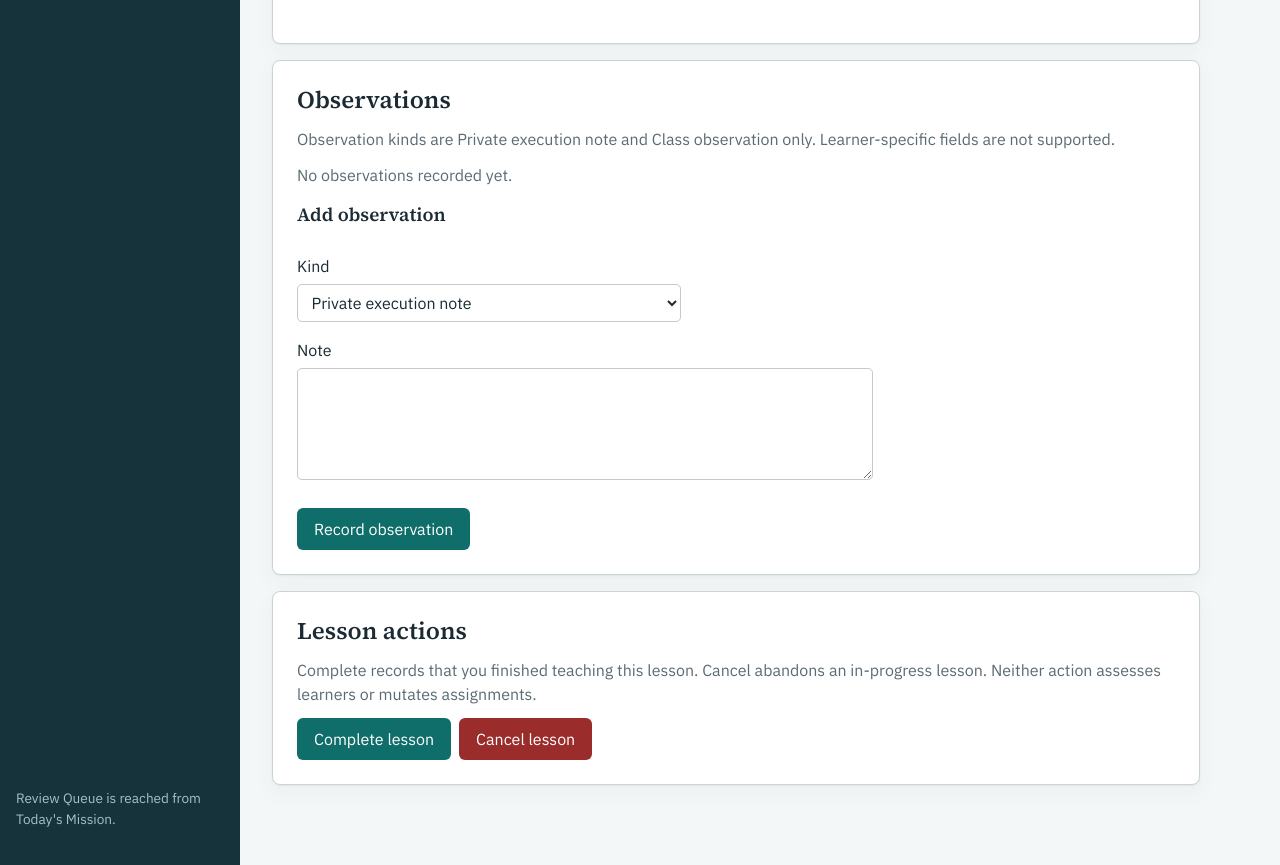
TOS-DEV07-I03 Execution detail › creates observation with Idempotency-Key
(page scrolled)
Type "First note" into the text box named "Observation note" at [585, 424], box [297,368,873,480]
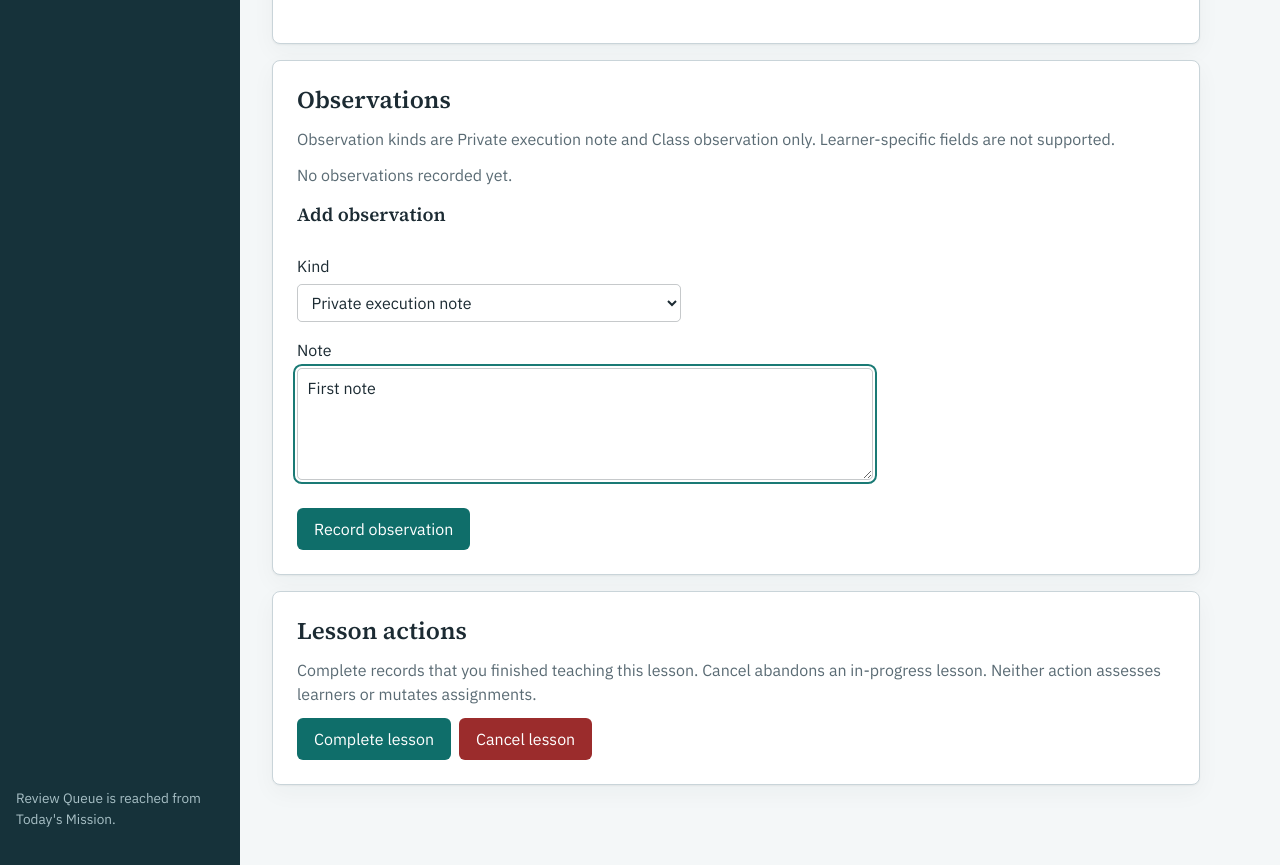
Click the button "Record observation" at [384, 529], box [297,508,470,550]
(page scrolled)
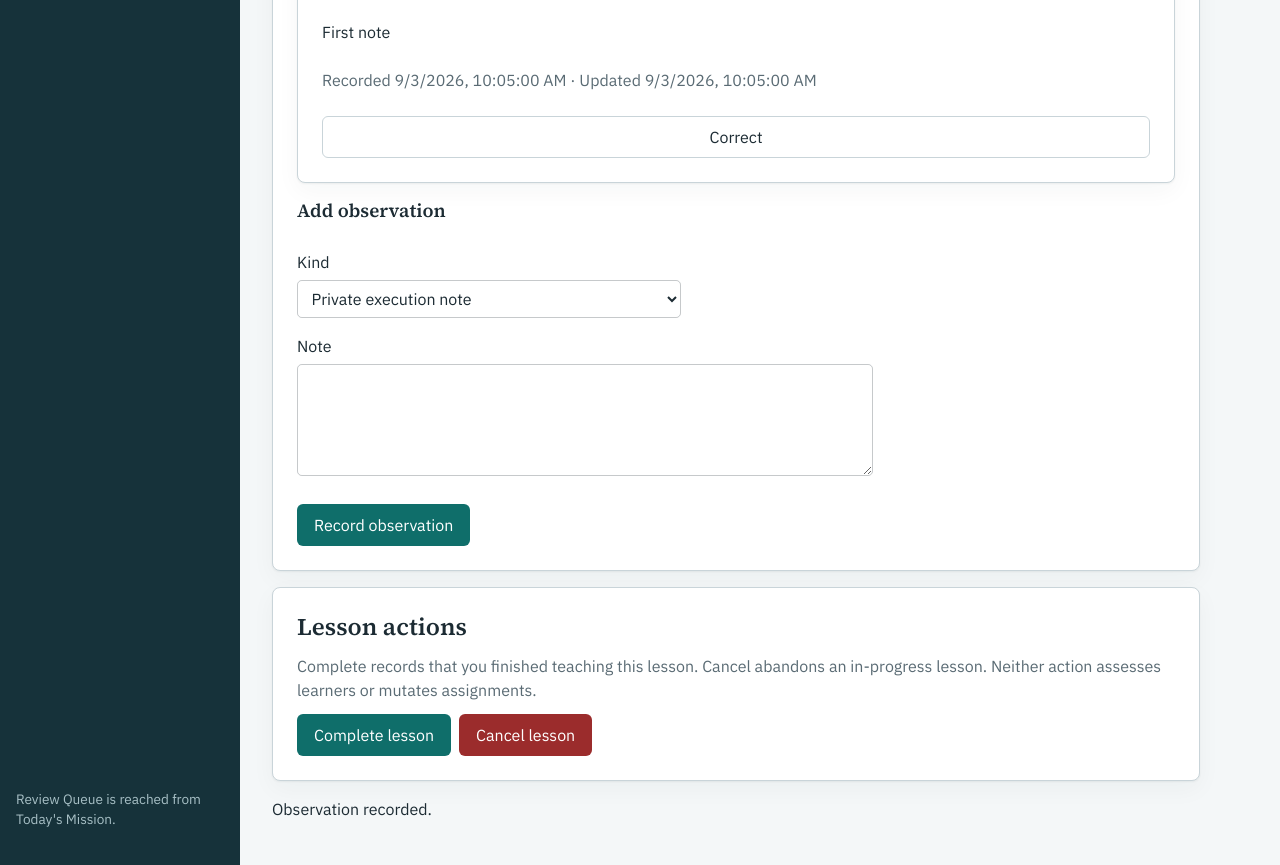
expect the text "Observation recorded." is shown: met, box [272,799,432,819]
